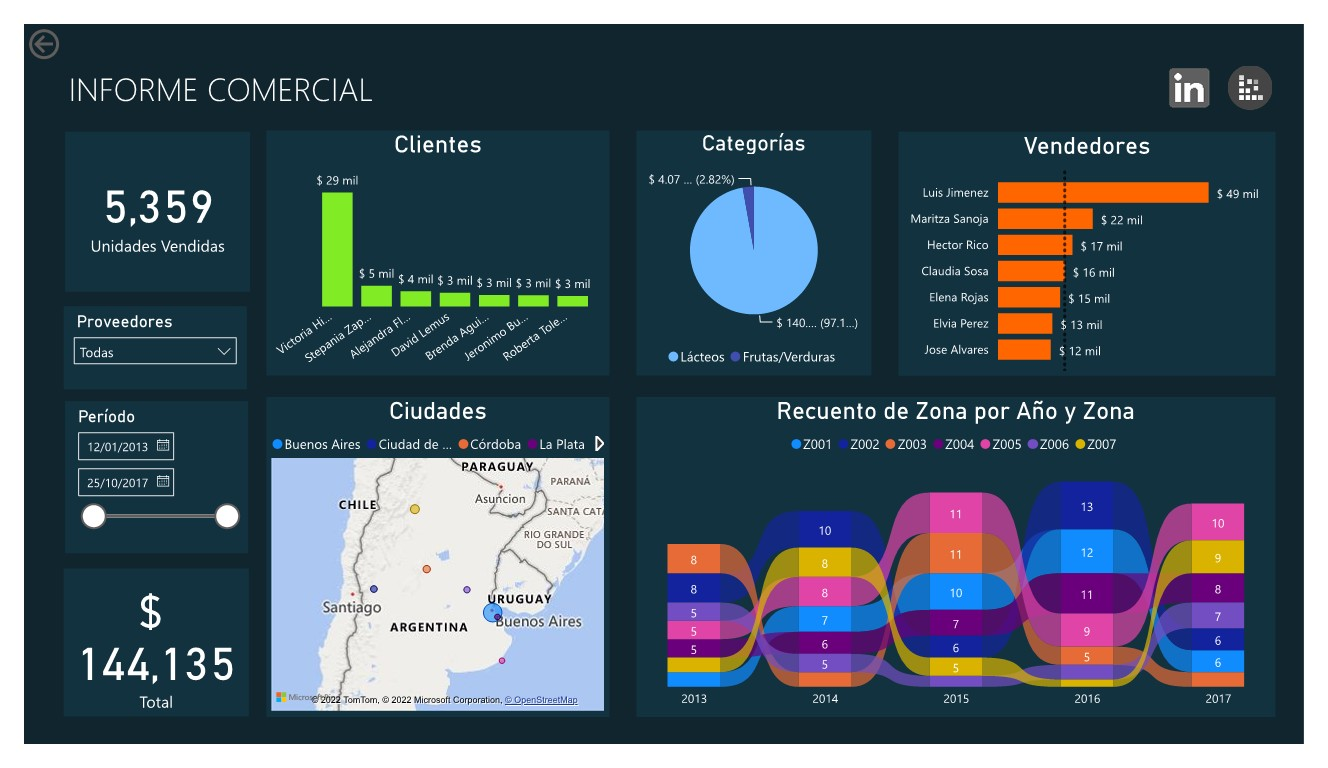

This screenshot's page, from the dashboard's own definition file:
{"tool":"powerbi","page":{"name":"TodosLosProveedores","canvas":[1280,720],"ordinal":0},"visuals":[{"type":"clusteredColumnChart","title":"Clientes","fields":{"Category":["Clientes.Nombre y Apellido"],"Y":["Facturacion.Total"]},"box":[242.8,105.6,343.3,245.2],"z":0,"group":"g1"},{"type":"group","id":"g1","title":"Grupo 1","box":[242.8,105.6,1008.9,588],"z":0},{"type":"pieChart","title":"Categorías","fields":{"Category":["Productos.Categoría"],"Y":["Facturacion.Total"]},"box":[613.2,105.6,234.9,245.2],"z":1000,"group":"g1"},{"type":"card","fields":{"Values":["Facturacion.Cantidad"]},"box":[40.5,108,185.1,160],"z":1000},{"type":"clusteredBarChart","title":"Vendedores","fields":{"Category":["Vendedores.Nombre y Apellido"],"Y":["Facturacion.Total"]},"box":[875.1,106.9,376.8,244],"z":2000,"group":"g1"},{"type":"slicer","fields":{"Values":["Facturacion.Fecha"]},"box":[41.5,376.9,183.1,152.3],"z":2000},{"type":"image","box":[1116.9,36.9,96.4,55.3],"z":3000},{"type":"map","title":"Ciudades","fields":{"Y":["Zonas.Latitud"],"X":["Zonas.Longitud"],"Series":["Zonas.Descripcion"],"Size":["Facturacion.Total"]},"box":[242.8,372.7,343.3,319.7],"z":3000,"group":"g1"},{"type":"image","box":[1197.6,36.9,55.3,53.9],"z":4000},{"type":"ribbonChart","fields":{"Category":["Facturacion.Fecha.Variación.Jerarquía de fechas.Año","Facturacion.Fecha.Variación.Jerarquía de fechas.Trimestre","Facturacion.Fecha.Variación.Jerarquía de fechas.Mes","Facturacion.Fecha.Variación.Jerarquía de fechas.Día"],"Y":["Facturacion.Zona"],"Series":["Facturacion.Zona"]},"box":[613.2,372.7,638.8,319.7],"z":5000,"group":"g1"},{"type":"slicer","fields":{"Values":["Productos.Proveedor"]},"box":[40,281.5,183.1,83.1],"z":5000},{"type":"textbox","box":[40,36.9,356.9,152.3],"z":6000},{"type":"card","fields":{"Values":["Facturacion.Total"]},"box":[40,544.6,184.6,147.7],"z":7000},{"type":"actionButton","box":[0,0,100,40],"z":7001}]}

Visuals, with their boxes on the page's 1280x720 design canvas (x1, y1, x2, y2). These are canvas units, not pixel positions in the 1328x768 screenshot, which may show the page scaled, cropped or inside an application window:
"Clientes" clusteredColumnChart: 243, 106, 586, 351
"Grupo 1" group: 243, 106, 1252, 694
"Categorías" pieChart: 613, 106, 848, 351
card - Facturacion.Cantidad: 40, 108, 226, 268
"Vendedores" clusteredBarChart: 875, 107, 1252, 351
slicer - Facturacion.Fecha: 42, 377, 225, 529
image: 1117, 37, 1213, 92
"Ciudades" map: 243, 373, 586, 692
image: 1198, 37, 1253, 91
ribbonChart - Facturacion.Fecha.Variación.Jerarquía de fechas.Año x Facturacion.Fecha.Variación.Jerarquía de fechas.Trimestre: 613, 373, 1252, 692
slicer - Productos.Proveedor: 40, 282, 223, 365
textbox: 40, 37, 397, 189
card - Facturacion.Total: 40, 545, 225, 692
actionButton: 0, 0, 100, 40
